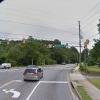Tree: (13, 16, 79, 60)
